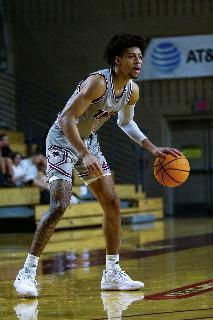person - v3 P: (14, 32, 182, 296)
